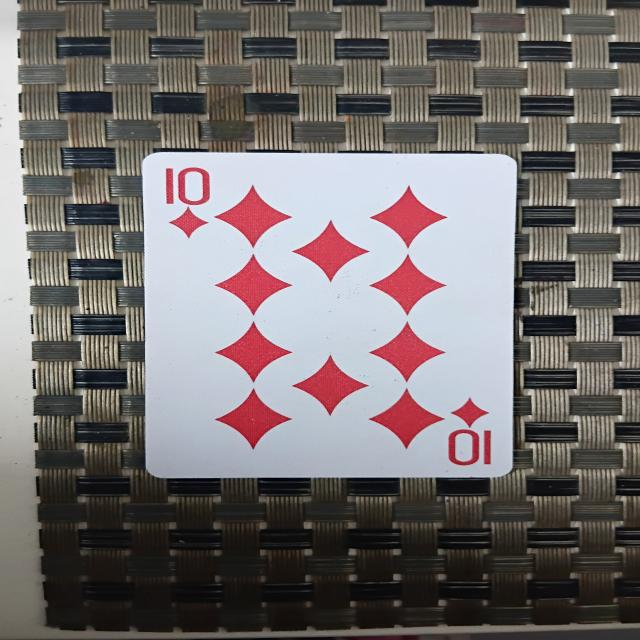10D: (141, 154, 521, 480)
